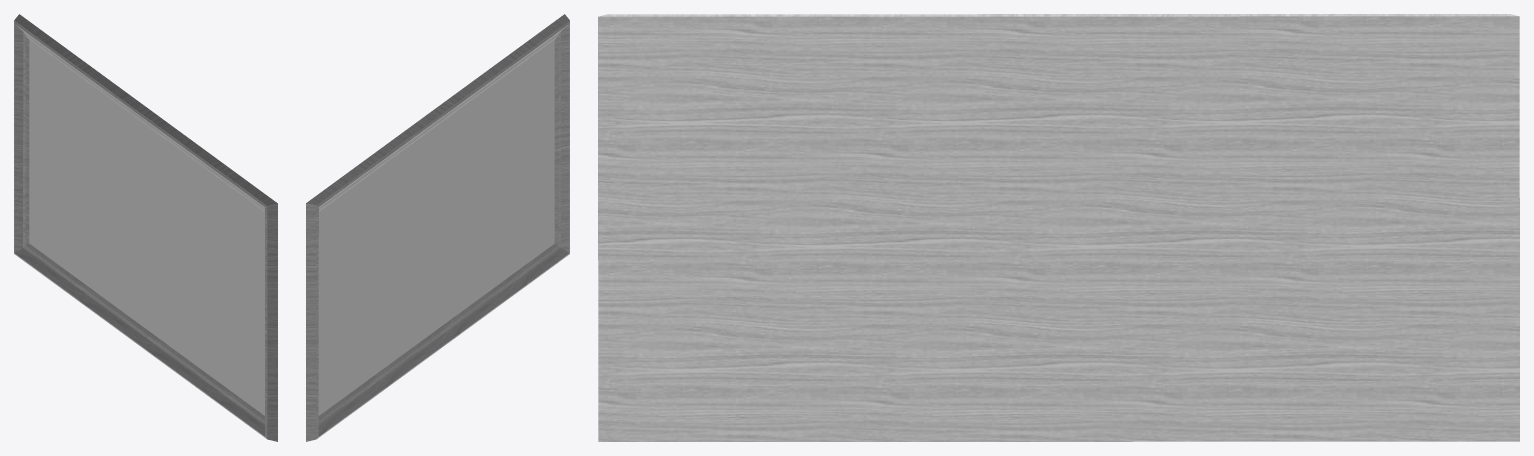
File: Mirror_3c366938.obj
3 renders of one model, left to right at view 1: azimuth 30°, elevation 25°; view 2: azimuth 150°, elevation 25°; view 3: azimuth 270°, elevation 25°, orthographic. The views are drawn at different scales.
Visible parts, largest first — view 1: MirrorMesh_8ef5d82c; view 2: MirrorMesh_8ef5d82c; view 3: MirrorMesh_8ef5d82c.
Part boxes in pixels (x1=…): MirrorMesh_8ef5d82c: x1=14, y1=14, x2=277, y2=441; MirrorMesh_8ef5d82c: x1=306, y1=14, x2=569, y2=441; MirrorMesh_8ef5d82c: x1=598, y1=14, x2=1519, y2=441.
Size of the model in its own units: 0.0334 by 0.8595 by 1.69.
